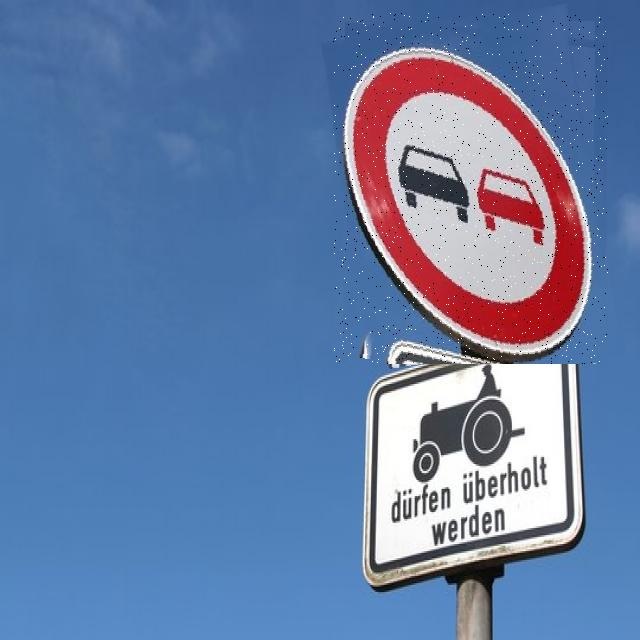no overtaking: (333, 13, 608, 364)
